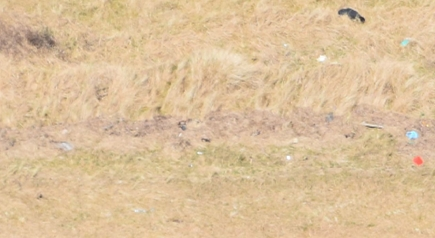scattered_barrel: (165, 3, 430, 171)
